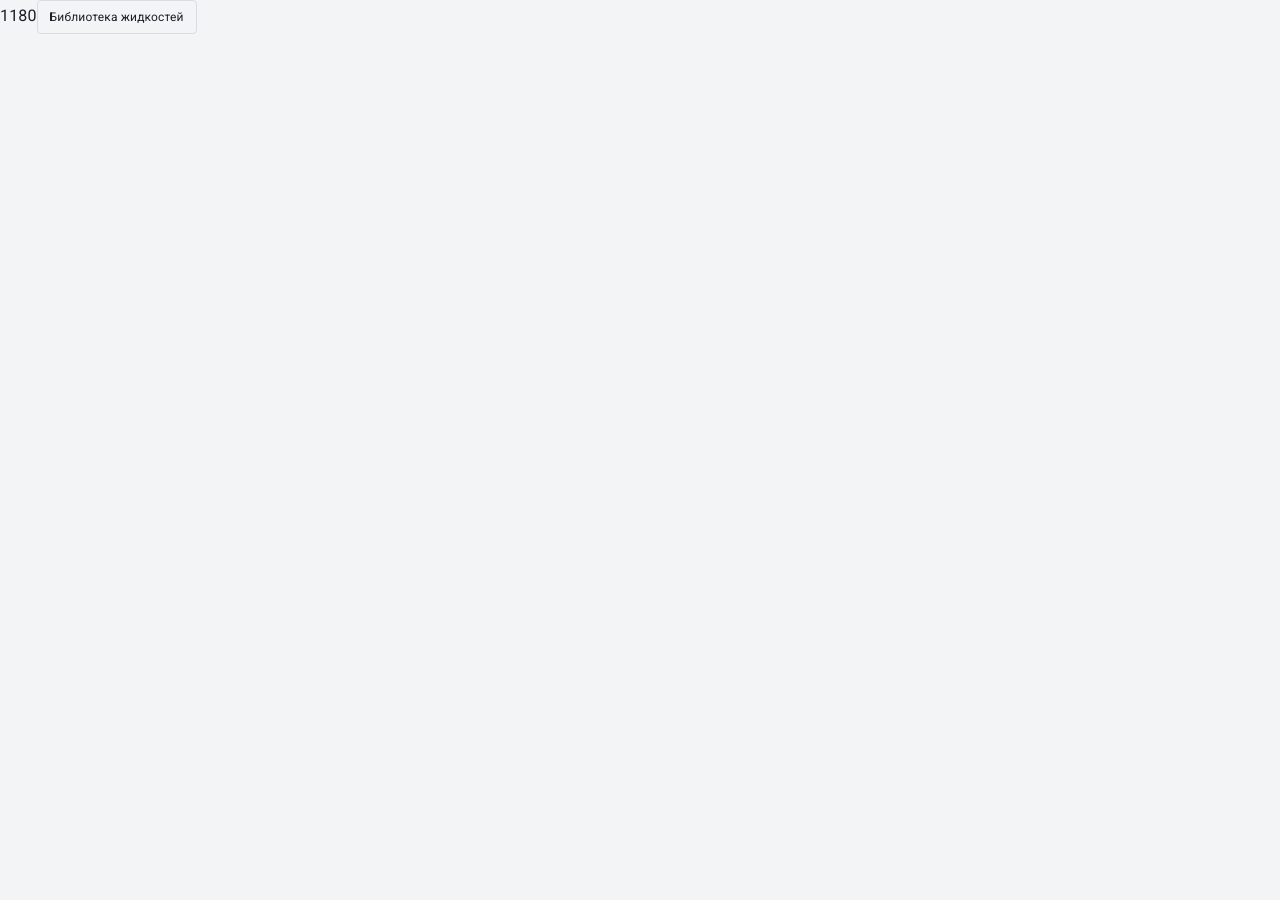
Test: creates a reusable record without requiring a project fluid and validates its source
Later steps or results of the test are not shown.
Step 1. Click the button "Библиотека жидкостей" → (117, 17), box [37,0,197,34]
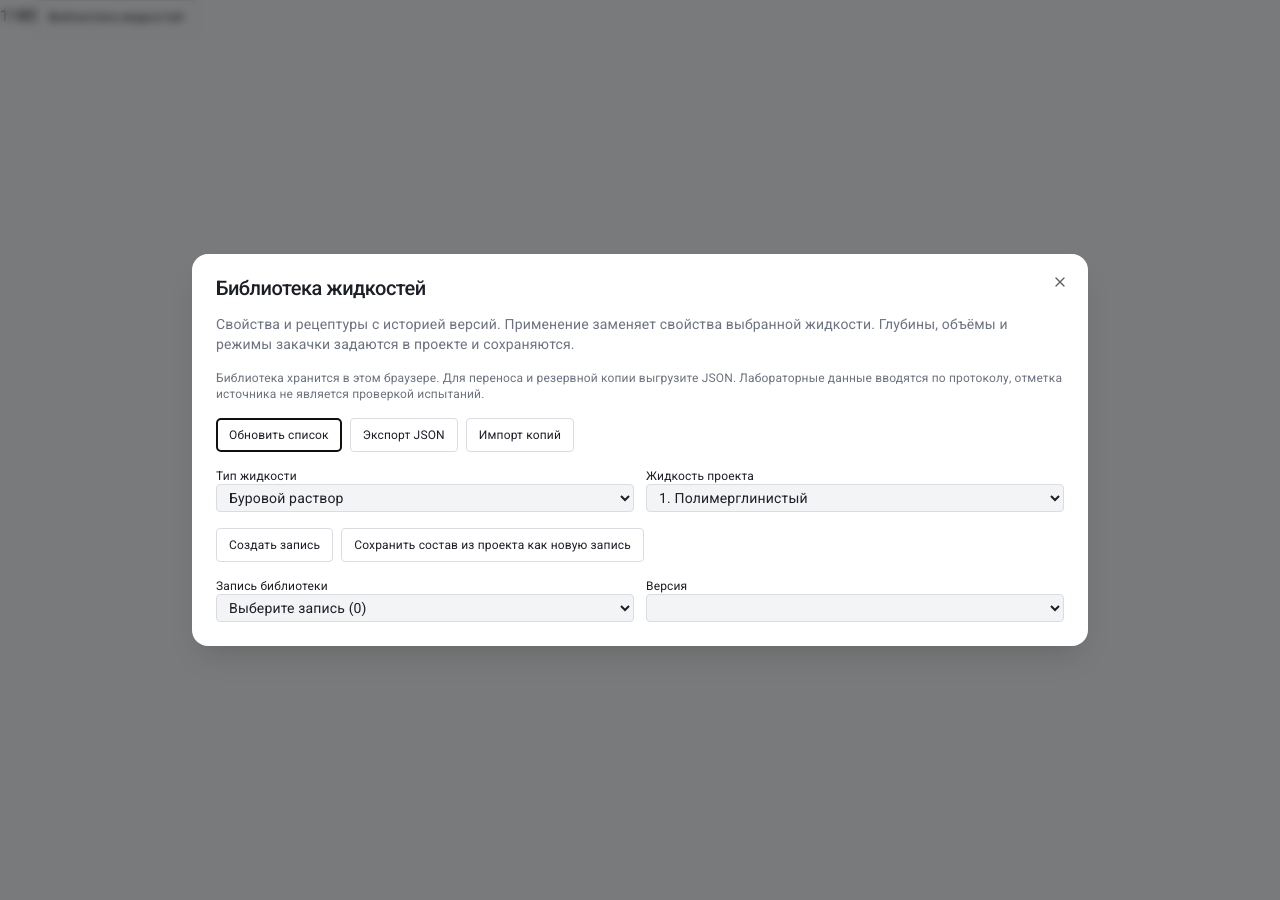
Step 2. Select "Тампонажный раствор" in the dropdown named "Тип жидкости в библиотеке" → (425, 498), box [216,484,634,512]
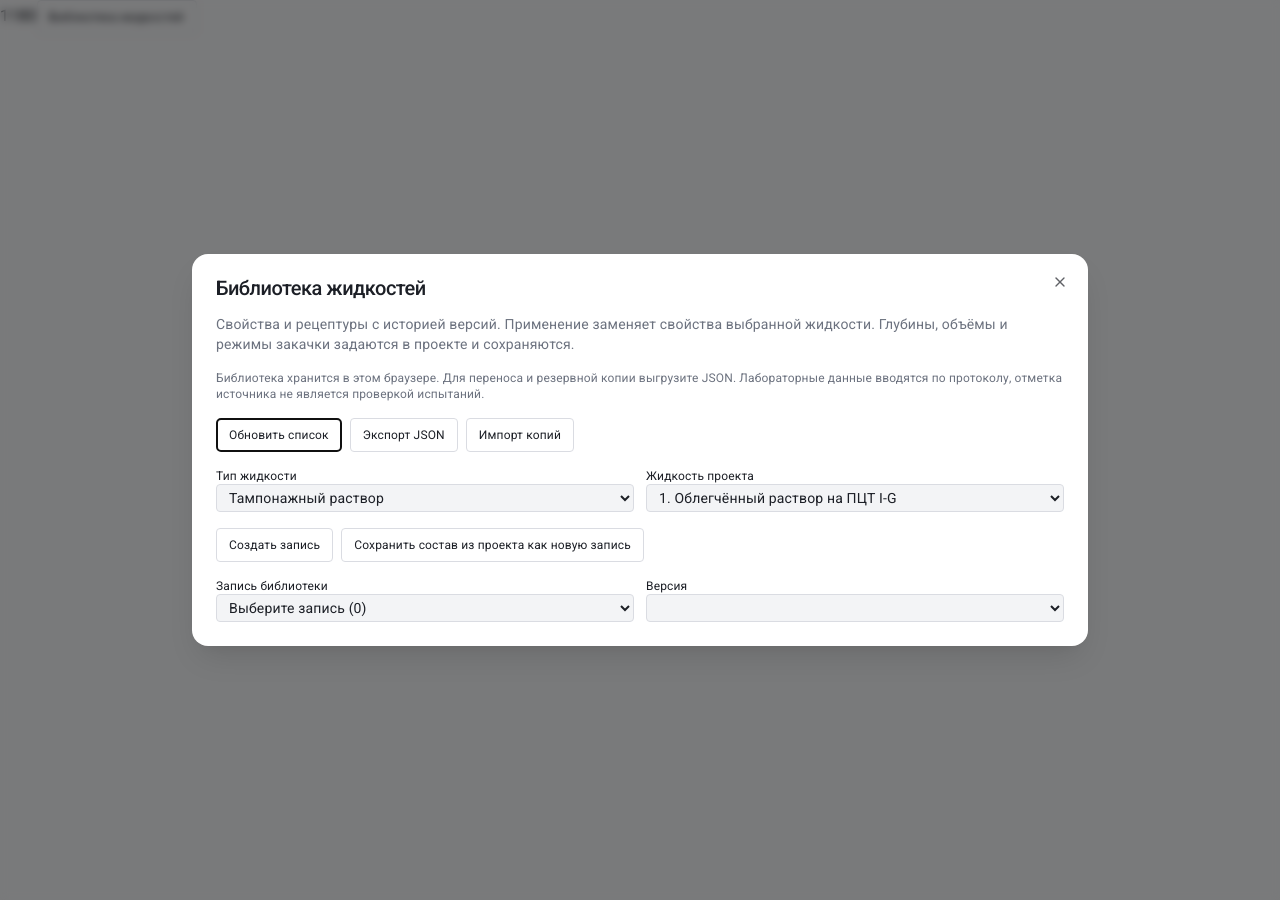
Step 3. Click the button "Создать запись" → (275, 545), box [216,528,333,562]
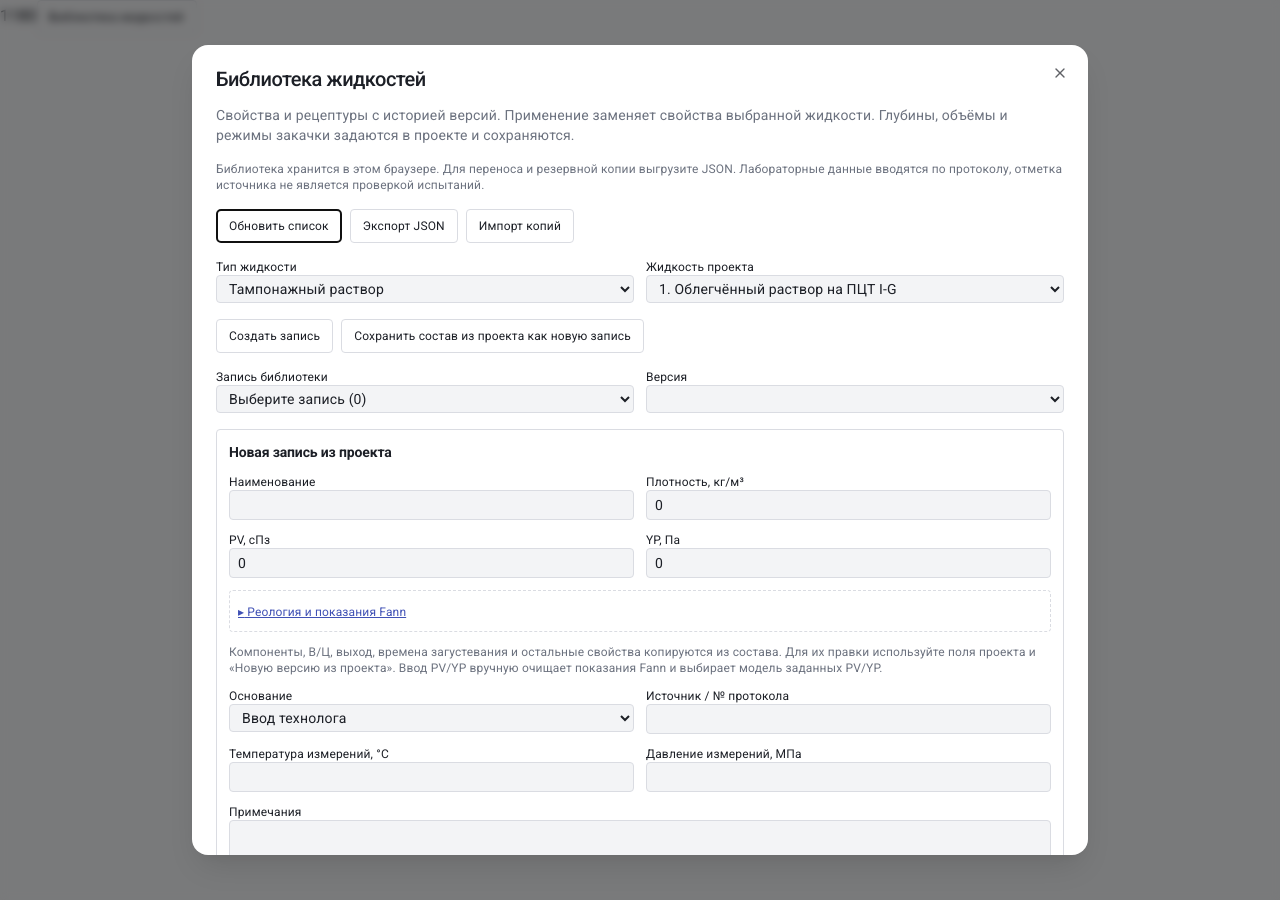
Step 4. Type "Состав G лаборатория" into the field named "Название записи" → (432, 505), box [229,490,634,520]
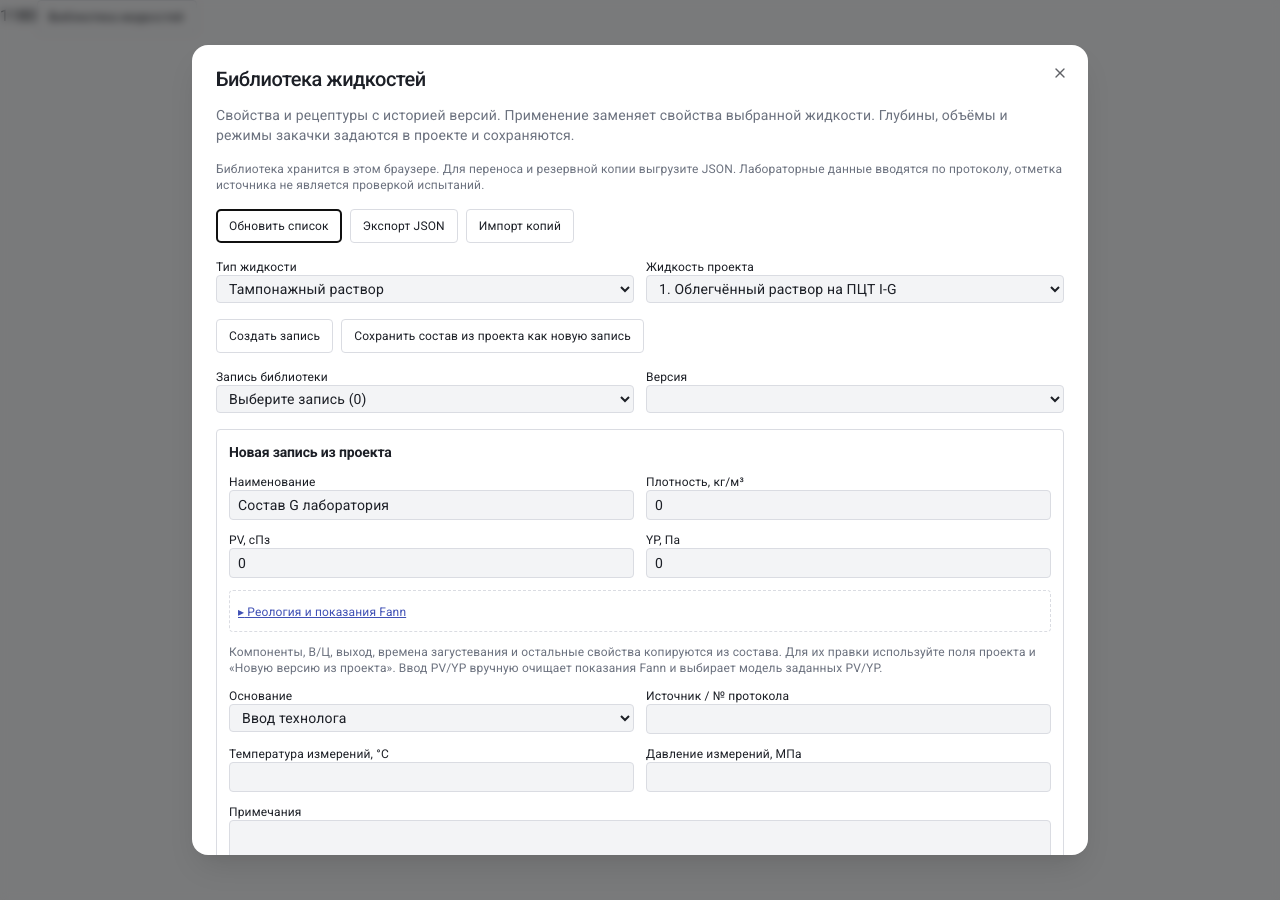
Step 5. Replace the text in the number field named "Плотность библиотеки" with "1450.1234" → (848, 505), box [646,490,1051,520]
(page scrolled)
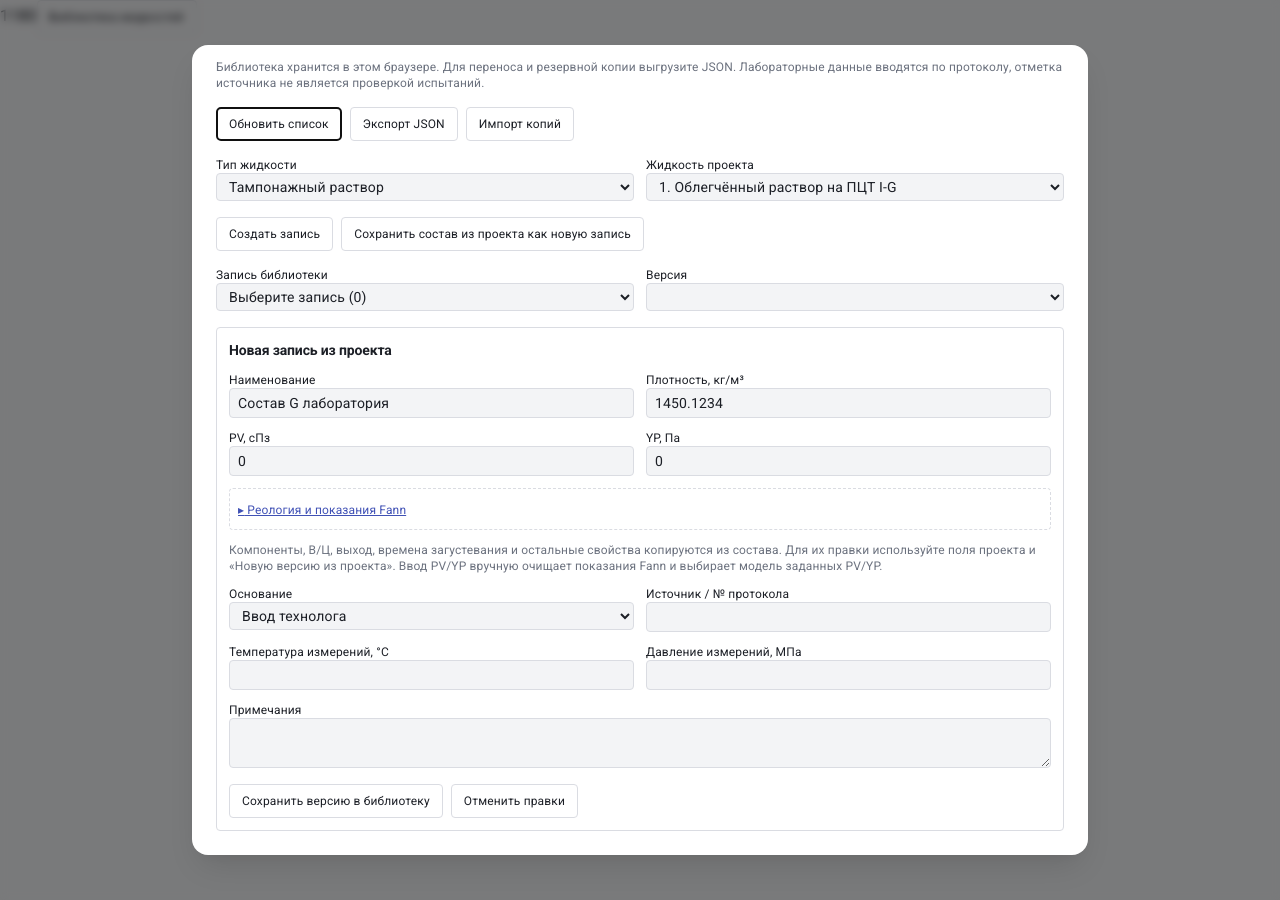
Step 6. Click the button "Сохранить версию в библиотеку" → (336, 801), box [229,784,443,818]
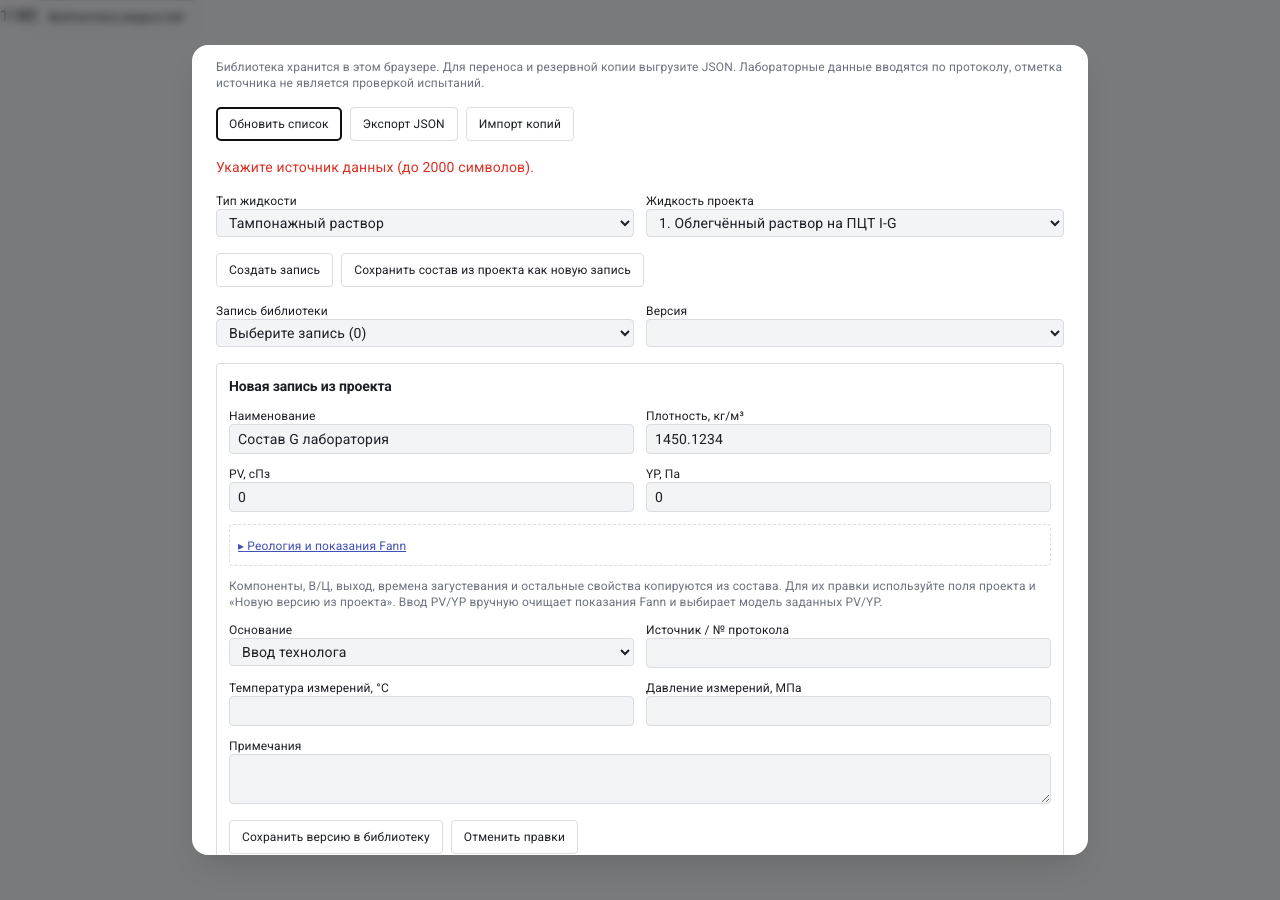
Expected: the message shows "источник", [216,159,534,175]
